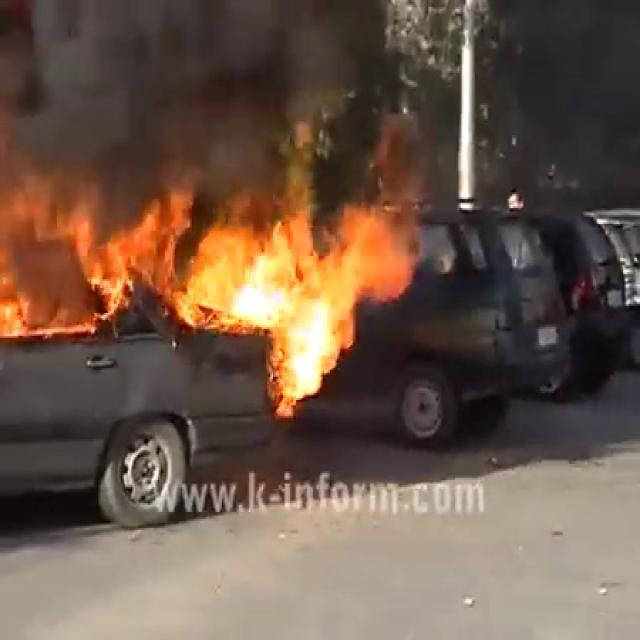Fire: (0, 161, 414, 403)
Smoke: (0, 0, 420, 176)
